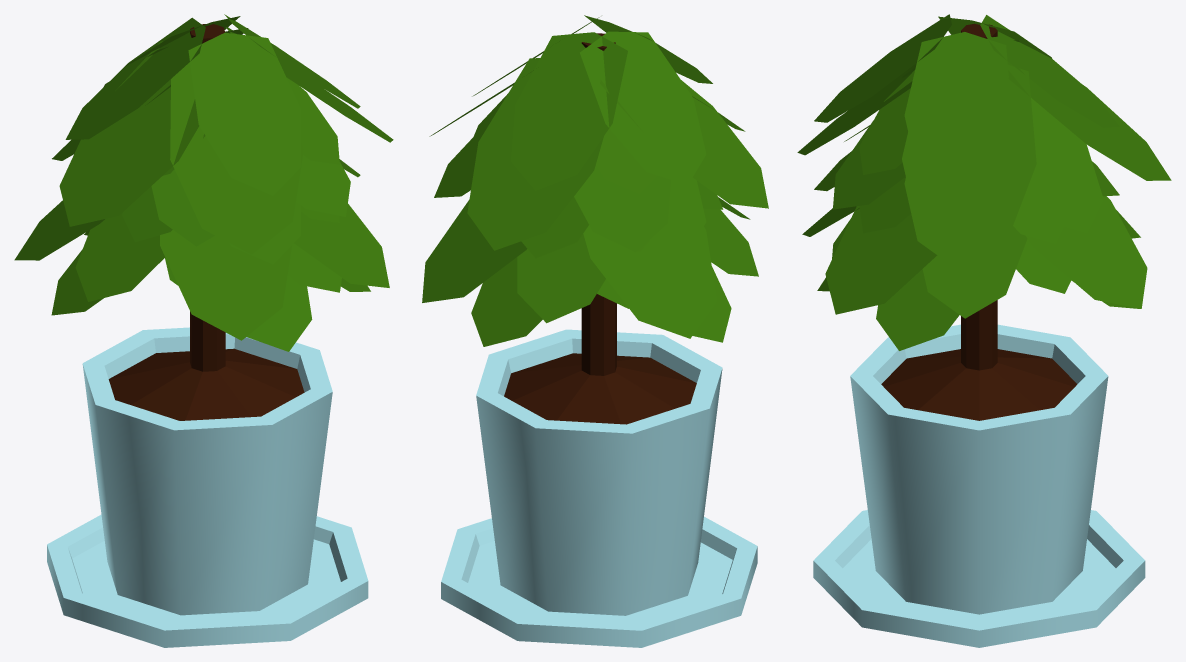
The model's file is Plant(1).fbx.
3 views of the same model, side by side, from view 1: azimuth 30°, elevation 25°; view 2: azimuth 150°, elevation 25°; view 3: azimuth 270°, elevation 25° (orthographic).
Parts seen in each view (by area): view 1: Cylinder002; view 2: Cylinder002; view 3: Cylinder002.
Boxes of the visible parts, x1,y1,x2,y2 form: Cylinder002: (14, 14, 393, 647); Cylinder002: (422, 15, 768, 647); Cylinder002: (797, 14, 1171, 647).
Bounding box in the file's own units: 75.13 × 120 × 73.56.
